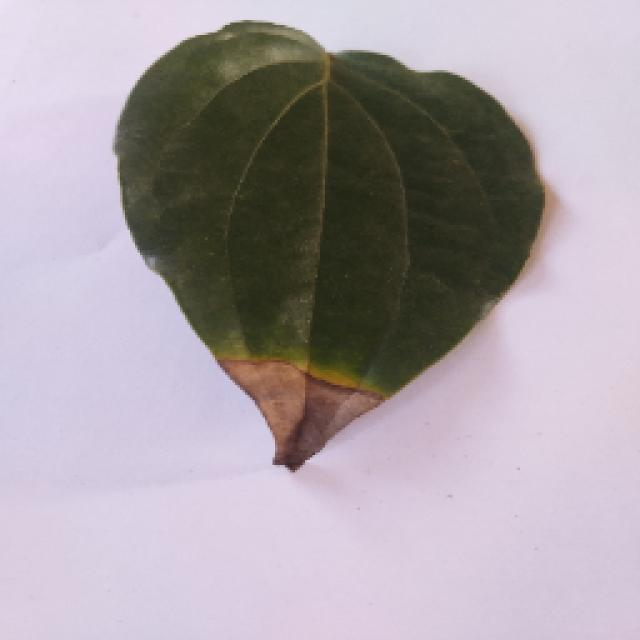footrot: (98, 22, 558, 472)
